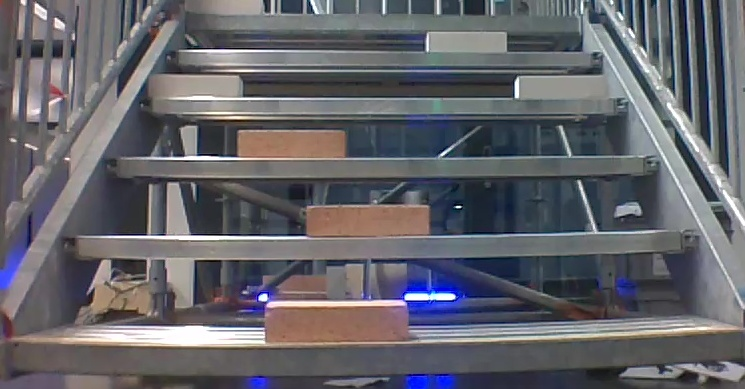brick: (264, 300, 407, 342), (307, 205, 429, 235), (238, 130, 345, 157), (150, 75, 242, 96), (514, 77, 604, 98), (426, 32, 506, 52)
edge: (9, 328, 745, 373), (65, 229, 700, 259), (105, 155, 660, 177), (139, 97, 630, 115), (164, 49, 602, 66)
